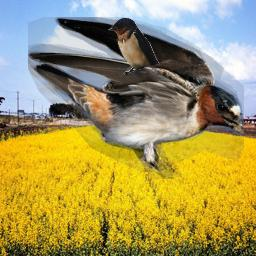Swallow: (28, 17, 244, 179), (108, 17, 160, 76)
